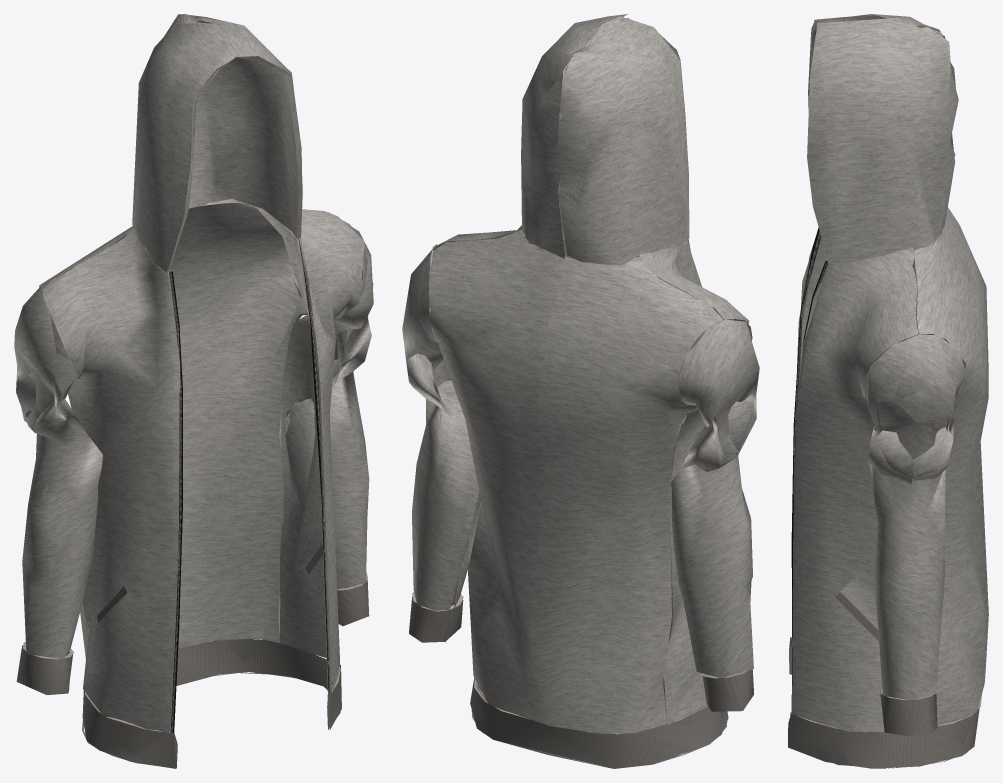
File: hoodie_lo.glb
3 views of the same model, side by side, from view 1: azimuth 30°, elevation 25°; view 2: azimuth 150°, elevation 25°; view 3: azimuth 270°, elevation 25° (orthographic).
Parts seen in each view (by area): view 1: Hoodie_Material3758_0; view 2: Hoodie_Material3758_0; view 3: Hoodie_Material3758_0.
Boxes of the visible parts, bbox=[...] form: Hoodie_Material3758_0: bbox=[14, 14, 373, 768]; Hoodie_Material3758_0: bbox=[402, 14, 759, 768]; Hoodie_Material3758_0: bbox=[788, 14, 988, 768].
Size of the model in its own units: 0.3773 by 0.7413 by 0.1913.
3 materials, 3 textured.
